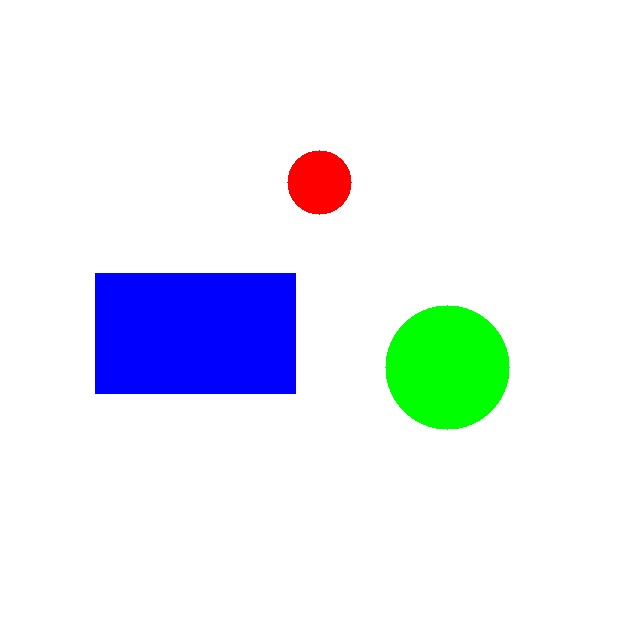cartao: (95, 273, 295, 393)
rosca_externa: (385, 305, 509, 429)
rosca_interna: (287, 150, 351, 214)
